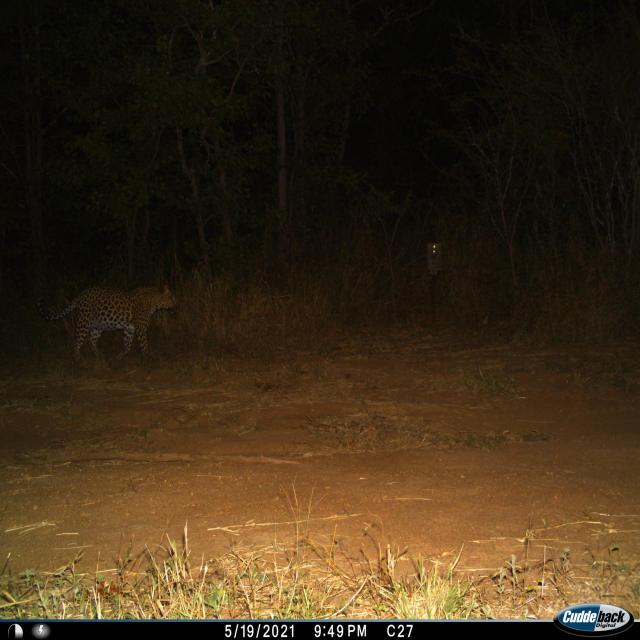Leopard: (47, 279, 180, 375)
